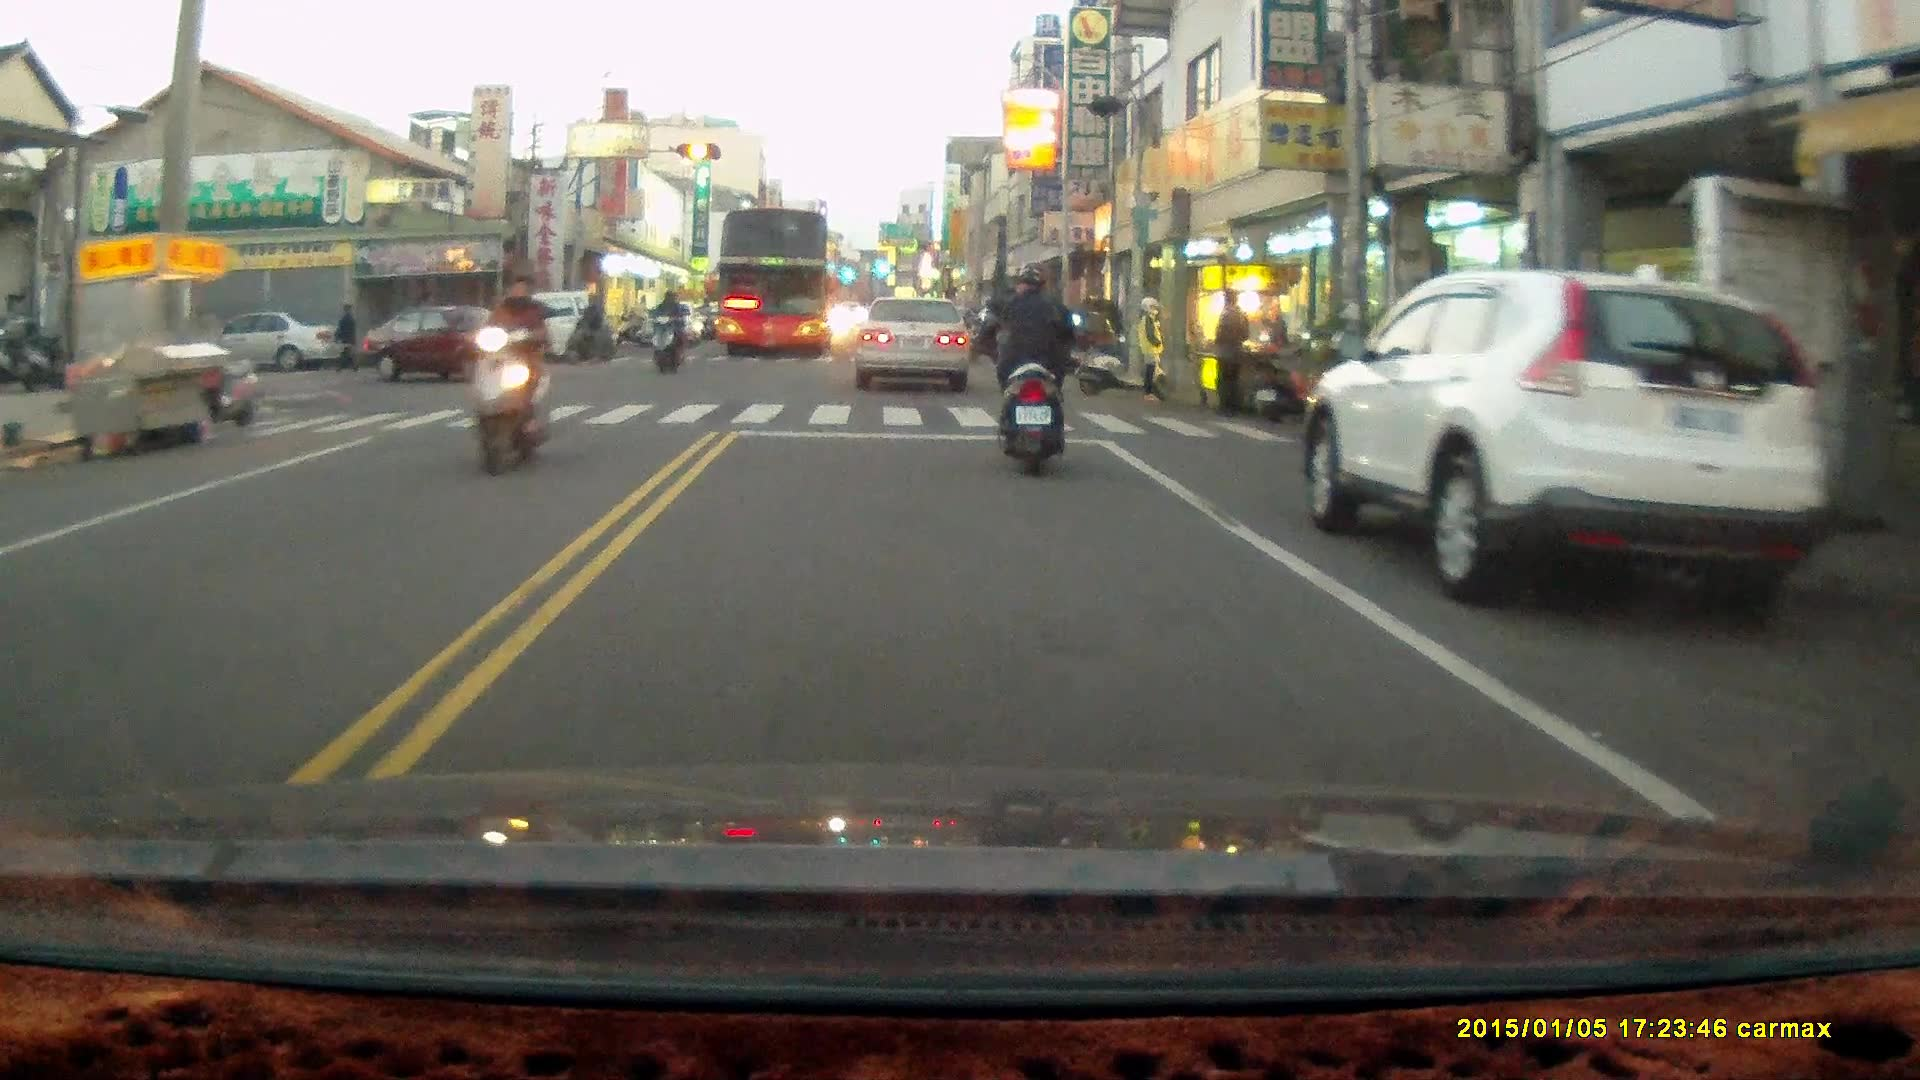pedestrian: (1214, 290, 1251, 424), (1133, 292, 1168, 403), (332, 301, 356, 371)
rider: (450, 265, 556, 473), (979, 259, 1082, 472), (964, 288, 1017, 365), (560, 288, 615, 363), (644, 287, 686, 374)
vehicle: (1300, 265, 1839, 606), (707, 203, 838, 361), (366, 299, 548, 377), (855, 295, 973, 389), (200, 311, 343, 370)
